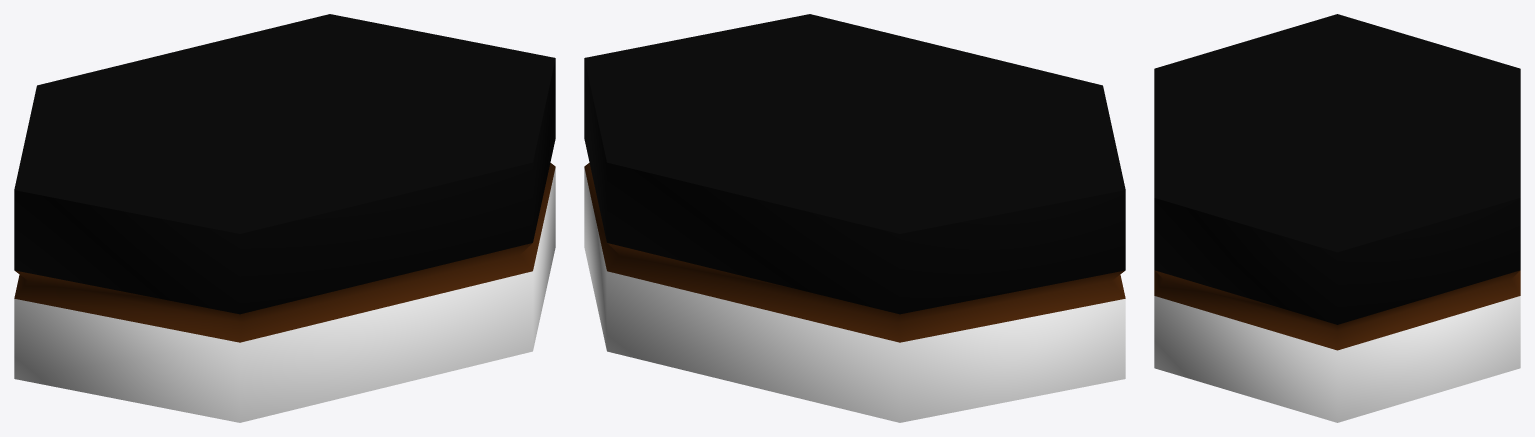
File: Mesh_HexHorse.fbx
3 renders of one model, left to right at view 1: azimuth 30°, elevation 25°; view 2: azimuth 150°, elevation 25°; view 3: azimuth 270°, elevation 25°, orthographic. The views are drawn at different scales.
Parts seen in each view (by area): view 1: Cylinder003; view 2: Cylinder003; view 3: Cylinder003.
Part boxes in pixels (box(x1,y1,x2,y2)): Cylinder003: box(14, 14, 555, 422); Cylinder003: box(584, 14, 1125, 422); Cylinder003: box(1154, 14, 1520, 422).
Bounding box in the file's own units: 48 × 16 × 31.18.
